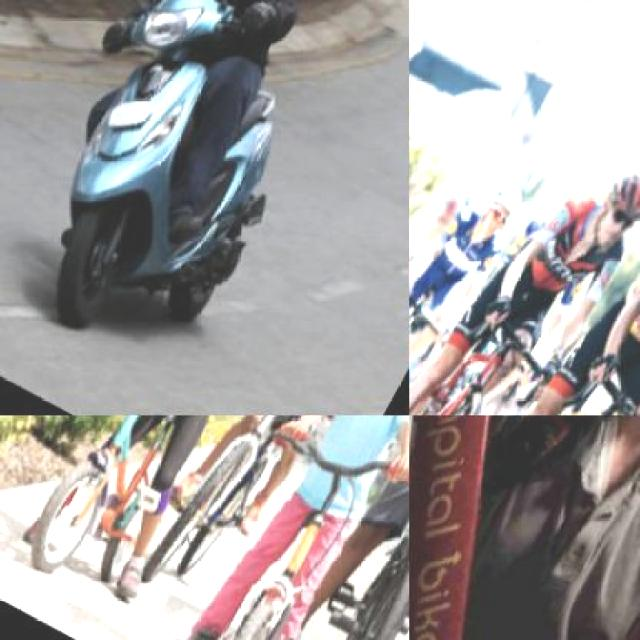With Helmet: (572, 155, 638, 274), (466, 172, 531, 248), (415, 182, 470, 250), (409, 189, 423, 260)
